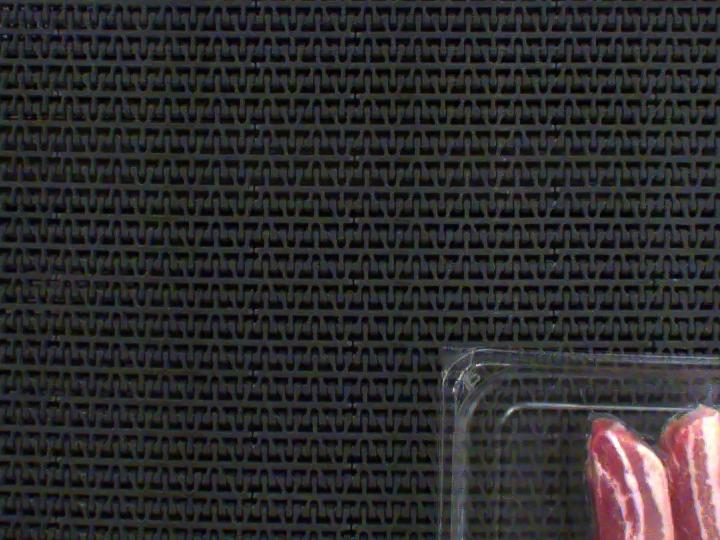unsealed: (562, 363, 720, 474)
